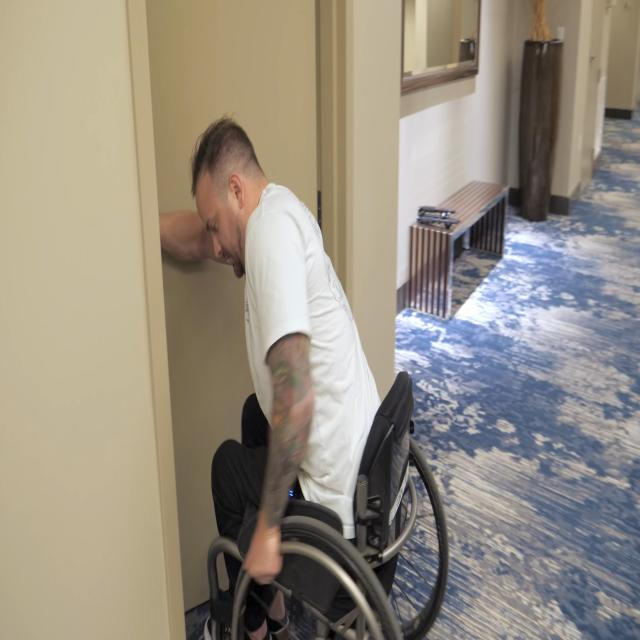wheelchairs: (203, 369, 451, 640)
